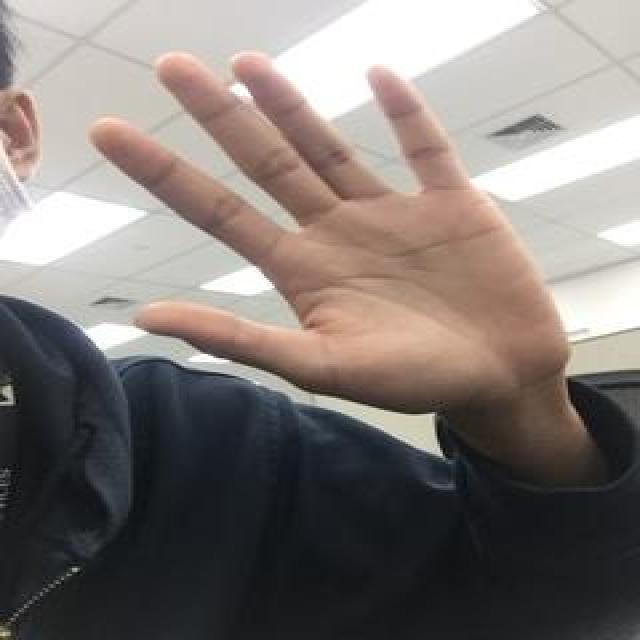Hand: (80, 47, 587, 467)
